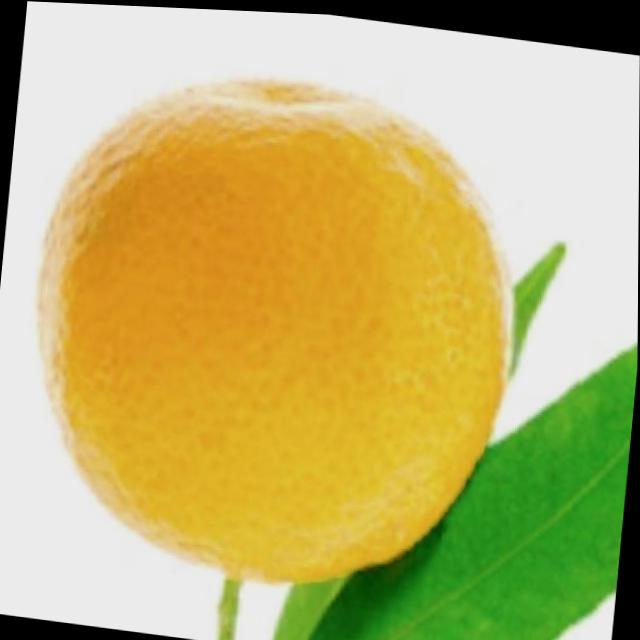Orange: (13, 48, 538, 613)
